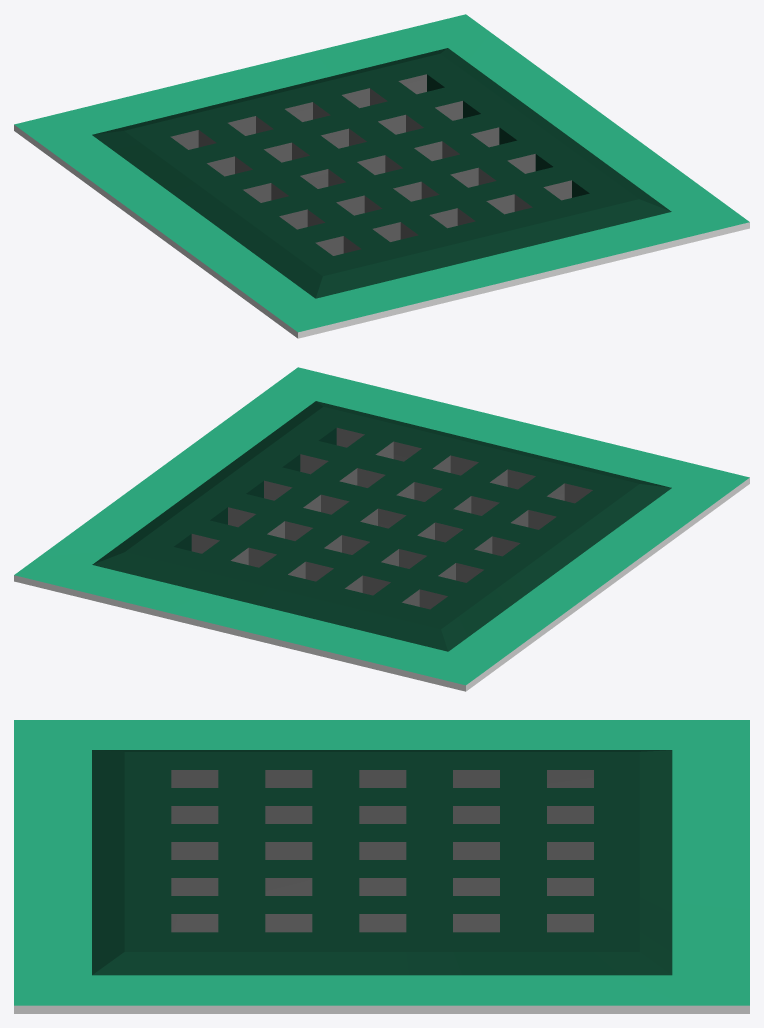
File: loophole (1).fbx
3 renders of one model, top to bottom at view 1: azimuth 30°, elevation 25°; view 2: azimuth 150°, elevation 25°; view 3: azimuth 270°, elevation 25°, orthographic. The views are drawn at different scales.
Parts seen in each view (by area): view 1: loophole; view 2: loophole; view 3: loophole.
Part boxes in pixels (<box>): loophole: <box>14,14,749,338</box>; loophole: <box>14,367,749,691</box>; loophole: <box>14,720,749,1013</box>.
Size of the model in its own units: 182 by 8.87 by 198.
